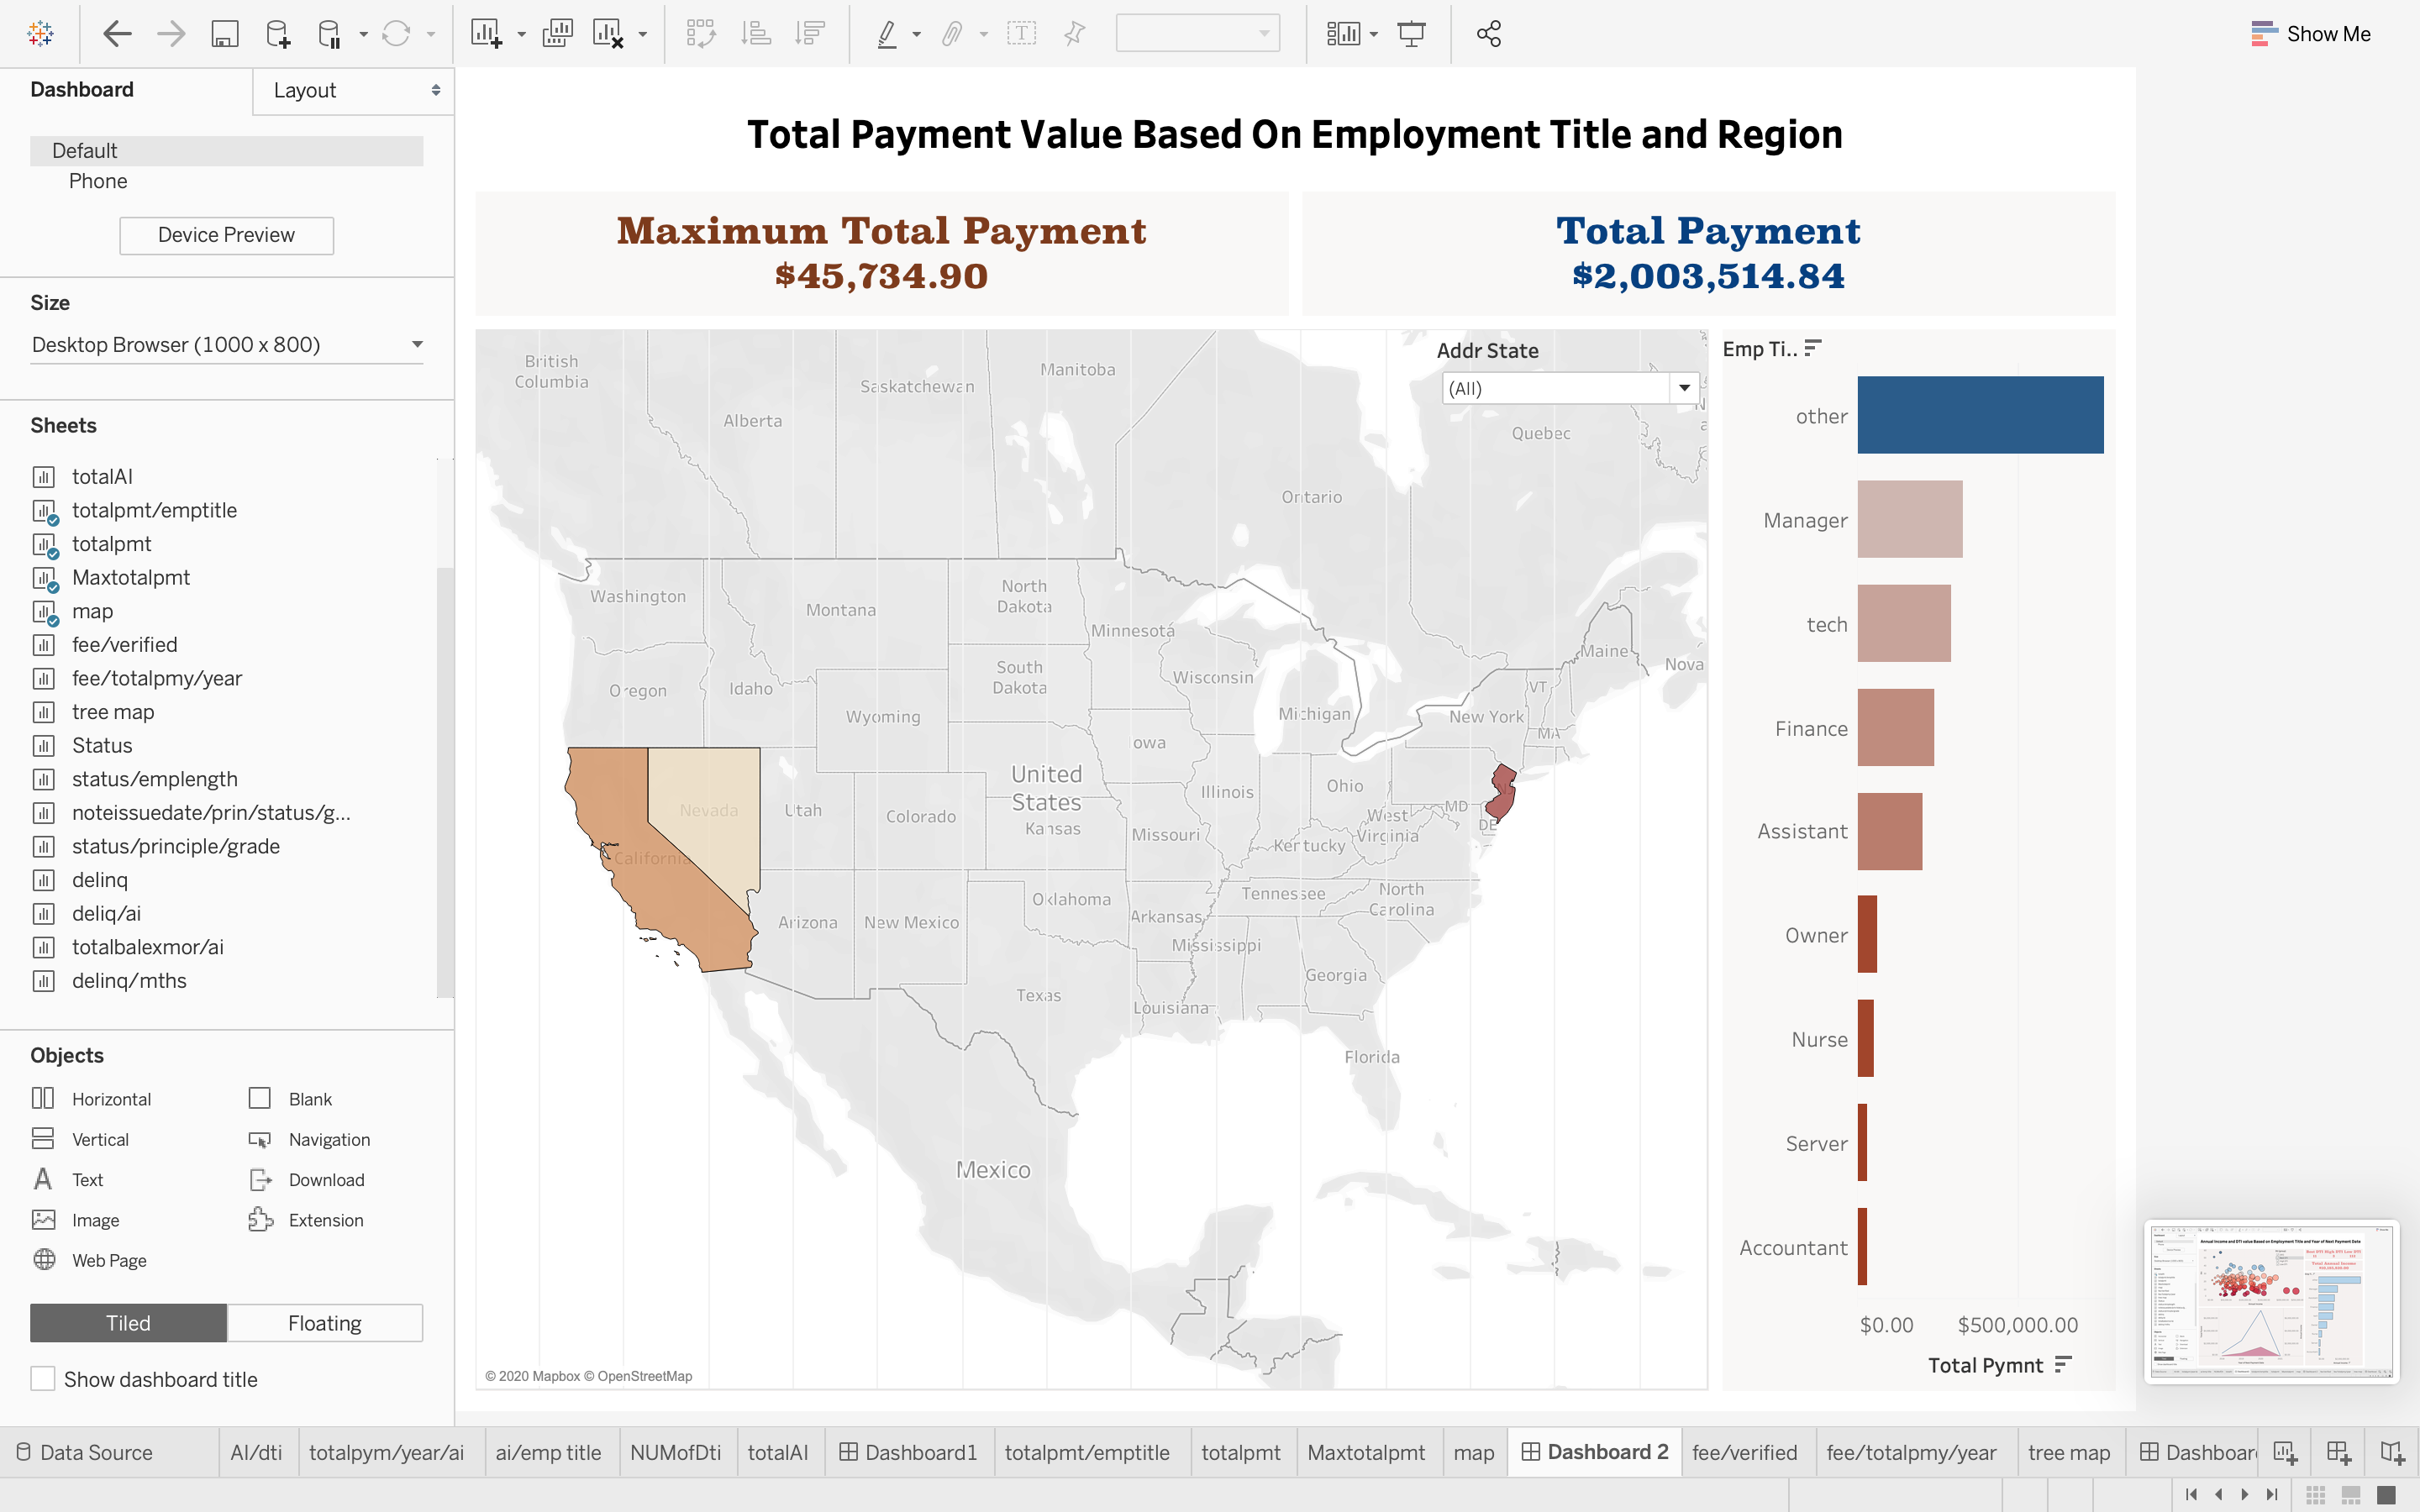

The page's visual inventory and layout, read from the dashboard file:
{"tool":"tableau","page":{"name":"Dashboard 2","canvas":[1000,800],"ordinal":0},"visuals":[{"type":"worksheet","box":[0,0,1000,800]},{"type":"worksheet","box":[8,8,984,62]},{"type":"worksheet","param":"horz","box":[8,70,984,722]},{"type":"worksheet","box":[8,70,984,722]},{"type":"worksheet","title":"Maxtotalpmt","mark":"Automatic","box":[8,70,492,82]},{"type":"worksheet","title":"totalpmt","mark":"Automatic","box":[500,70,492,82]},{"type":"worksheet","param":"horz","box":[8,152,742,640]},{"type":"worksheet","box":[8,152,742,640]},{"type":"worksheet","param":"horz","box":[8,152,742,640]},{"type":"worksheet","param":"horz","box":[8,152,742,640]},{"type":"worksheet","param":"horz","box":[8,152,742,640]},{"type":"worksheet","box":[8,152,742,640]},{"type":"worksheet","title":"map","mark":"Multipolygon","box":[8,152,742,640]},{"type":"worksheet","title":"totalpmt/emptitle","mark":"Automatic","cols":["total_pymnt"],"box":[750,152,242,640]},{"type":"worksheet","title":"totalpmt/emptitle","mark":"Automatic","cols":["total_pymnt"],"param":"[federated.1r03xfe1tay67917j0ytv04nyqhp].[none:addr_state:nk]","box":[584,160,160,44]}]}

Visuals, with their boxes on the page's 1000x800 design canvas (x1, y1, x2, y2). These are canvas units, not pixel positions in the 2420x1512 screenshot, which may show the page scaled, cropped or inside an application window:
worksheet: <region>0, 0, 1000, 800</region>
worksheet: <region>8, 8, 992, 70</region>
worksheet: <region>8, 70, 992, 792</region>
worksheet: <region>8, 70, 992, 792</region>
"Maxtotalpmt" worksheet: <region>8, 70, 500, 152</region>
"totalpmt" worksheet: <region>500, 70, 992, 152</region>
worksheet: <region>8, 152, 750, 792</region>
worksheet: <region>8, 152, 750, 792</region>
worksheet: <region>8, 152, 750, 792</region>
worksheet: <region>8, 152, 750, 792</region>
worksheet: <region>8, 152, 750, 792</region>
worksheet: <region>8, 152, 750, 792</region>
"map" worksheet (Multipolygon marks): <region>8, 152, 750, 792</region>
"totalpmt/emptitle" worksheet: <region>750, 152, 992, 792</region>
"totalpmt/emptitle" worksheet: <region>584, 160, 744, 204</region>
